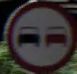No overtake: (8, 8, 71, 62)
